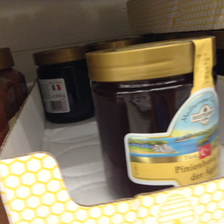honey: (85, 37, 224, 205)
